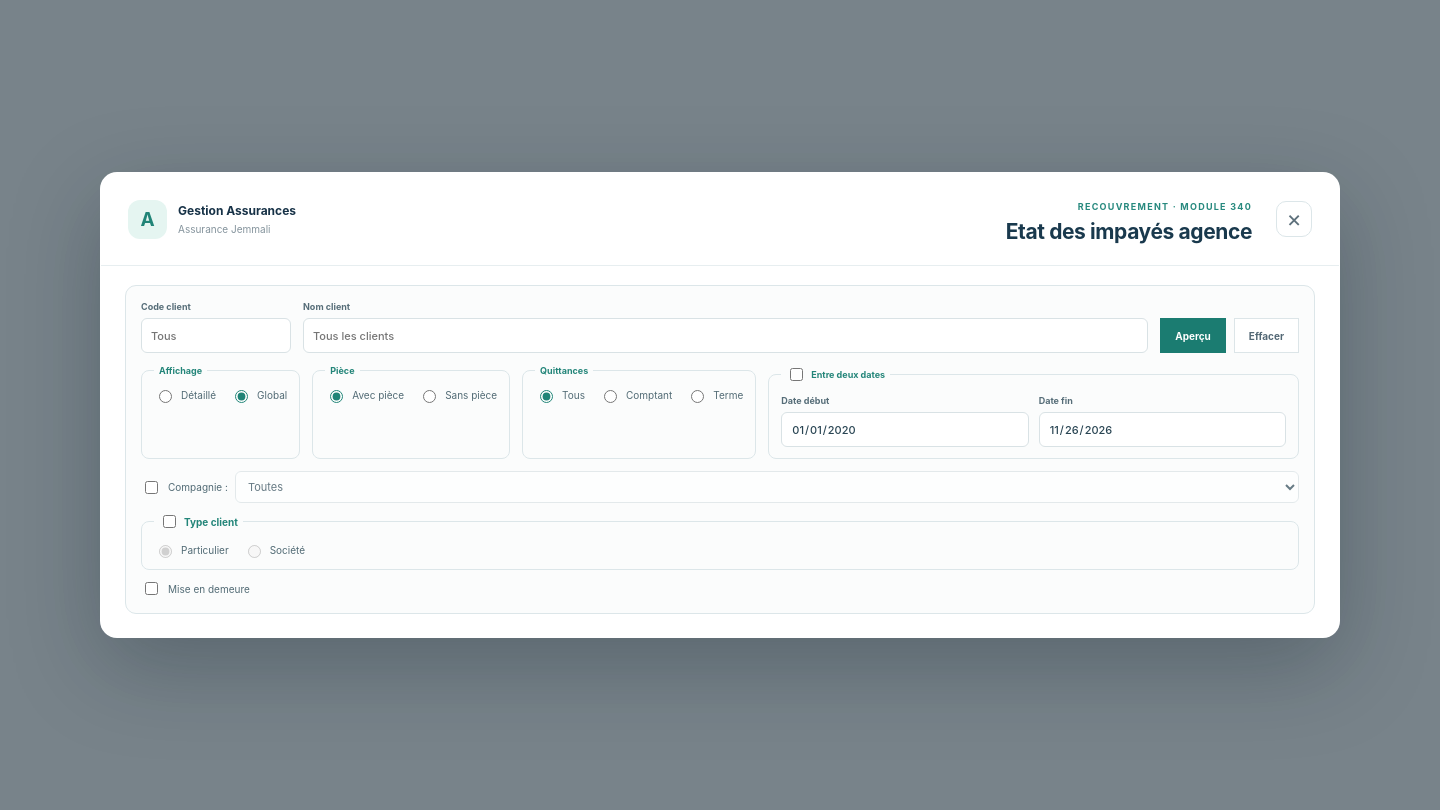
"Type client" ticked with Société reads the sociétés only
Click the checkbox labelled "Type client": (170, 522) [163,515,176,528]
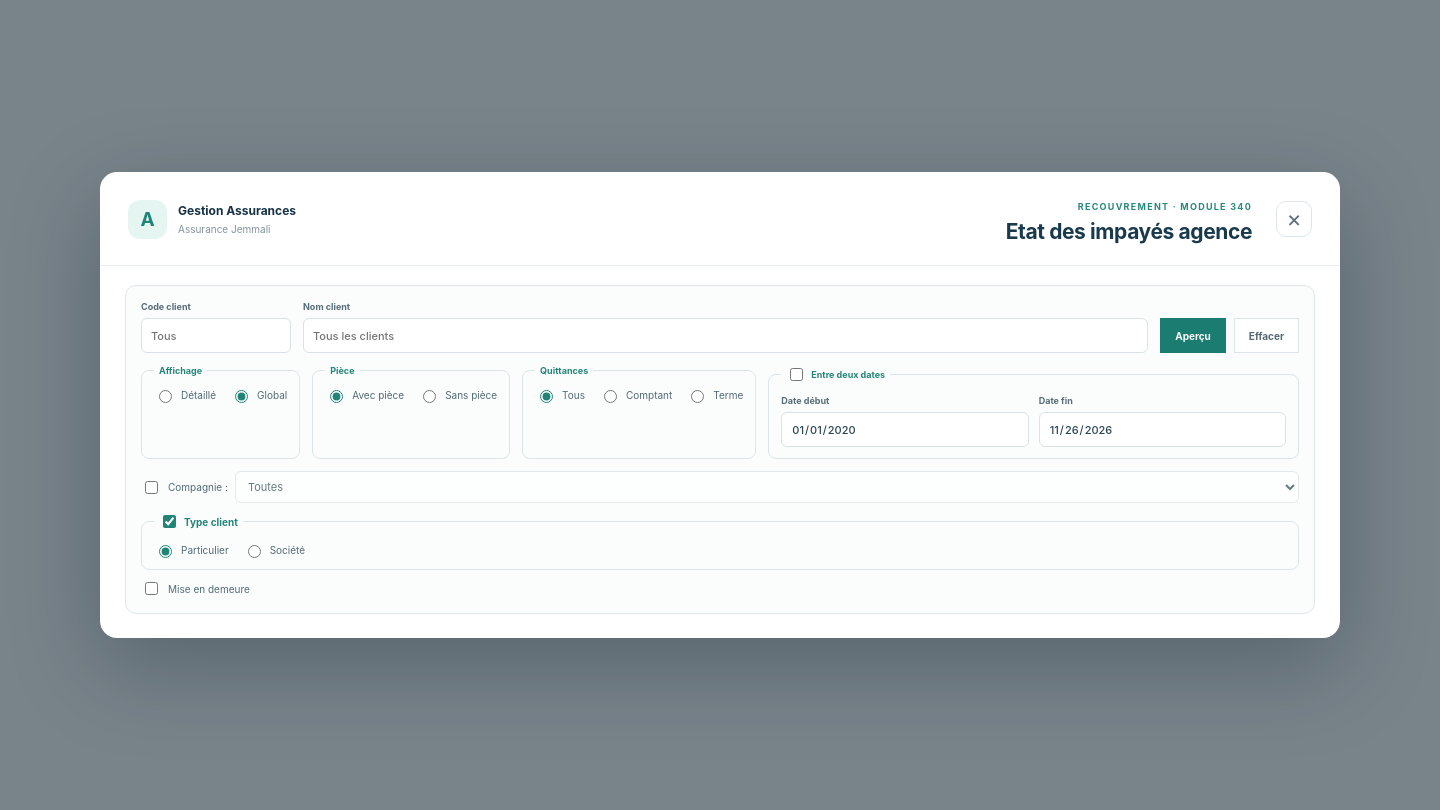
Click the radio button labelled "Société": (254, 552) [248,545,261,558]
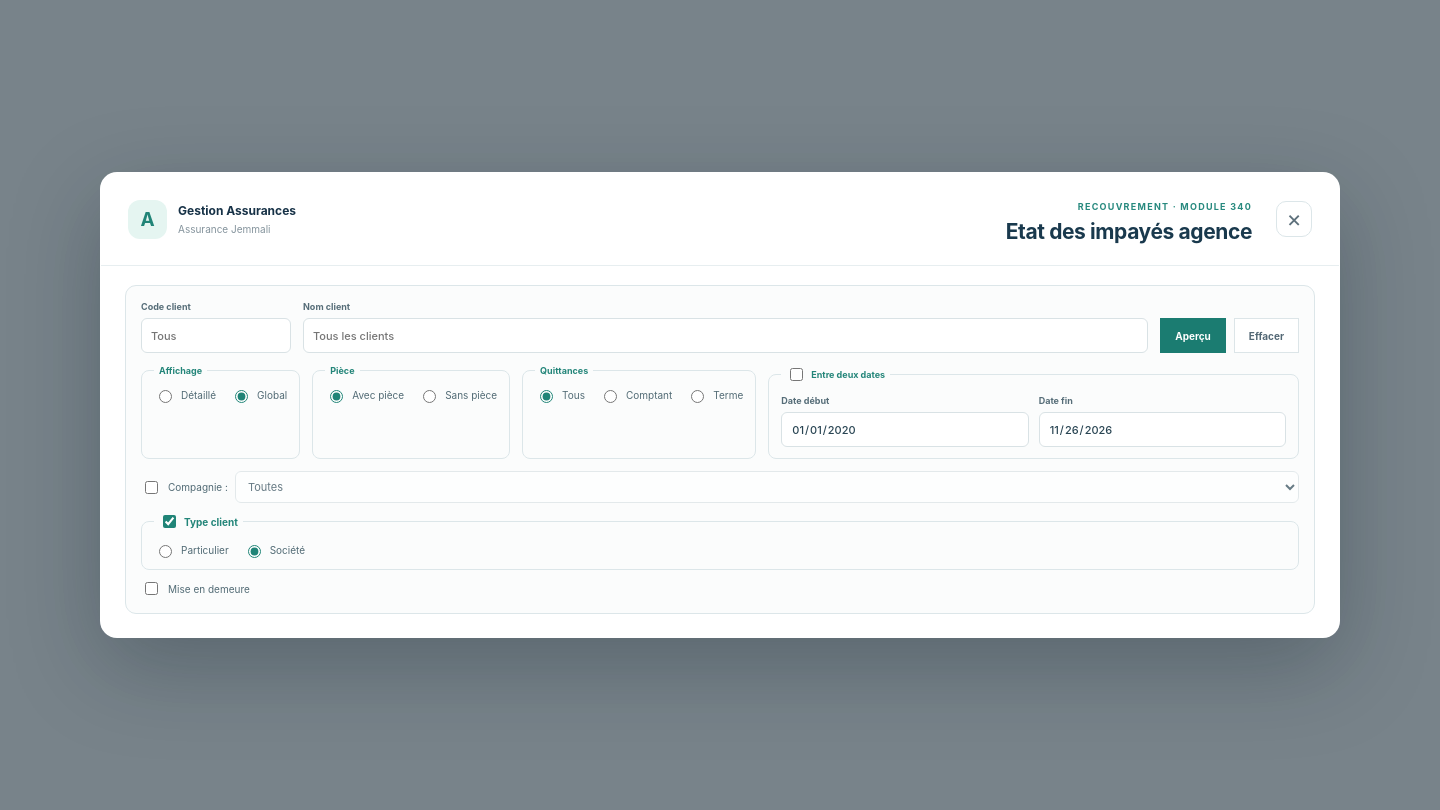
Click the button "Aperçu": (1193, 336) [1160,318,1226,353]
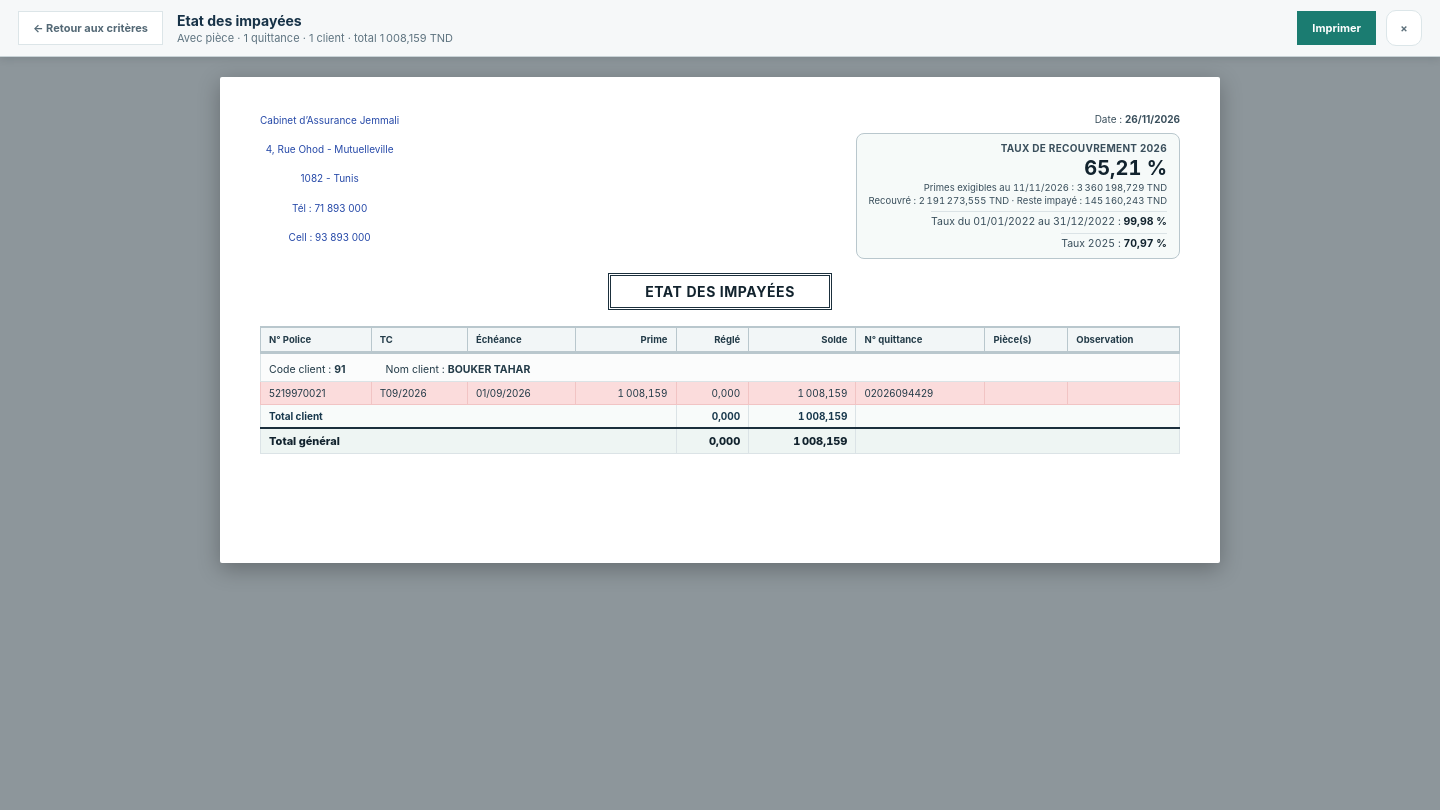
Check: the element labelled "Taux de recouvrement" is shown, box [856,133,1180,259]
